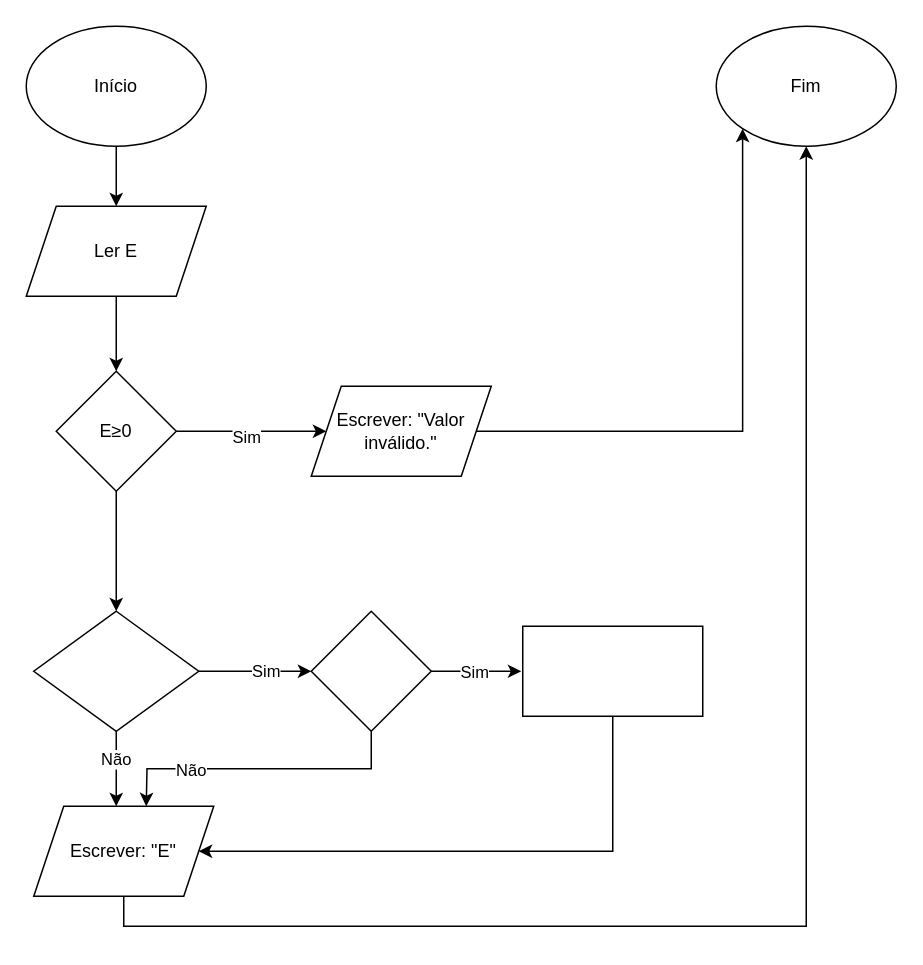
Some shapes in this 923 by 965 pixel diagram are drawn without their labels. The shapes that lost their labels are listed below. From the top down, each one's centre as x and y in pixels, then its label:
At [115,670]: "Entrega ao domicílio?".
At [370,670]: "E<50?".
At [612,670]: "E=E+5".
